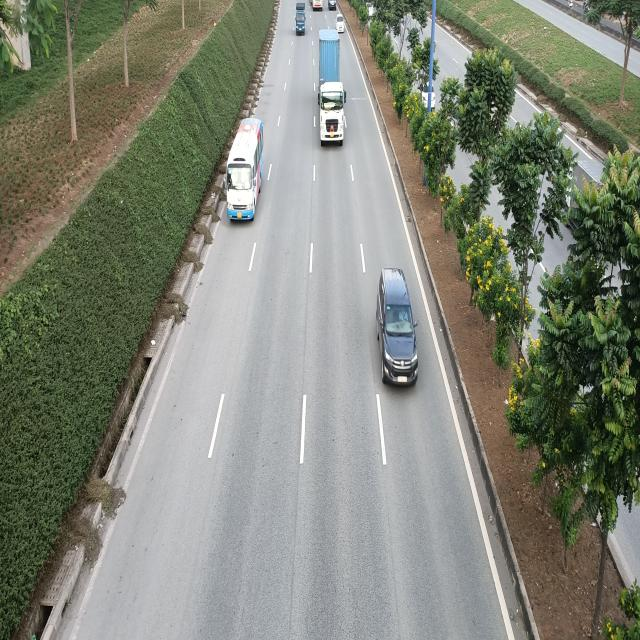car: (374, 268, 417, 389)
coach: (222, 115, 264, 224)
container: (318, 31, 349, 148)
truck: (294, 0, 306, 35)
